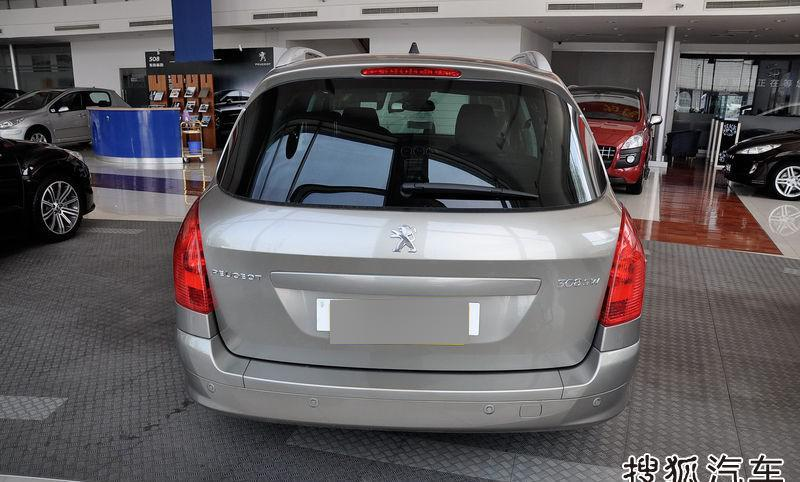Wagon: (172, 44, 647, 436)
